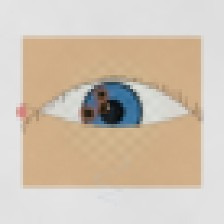foreign_body_visible: (82, 79, 121, 110)
